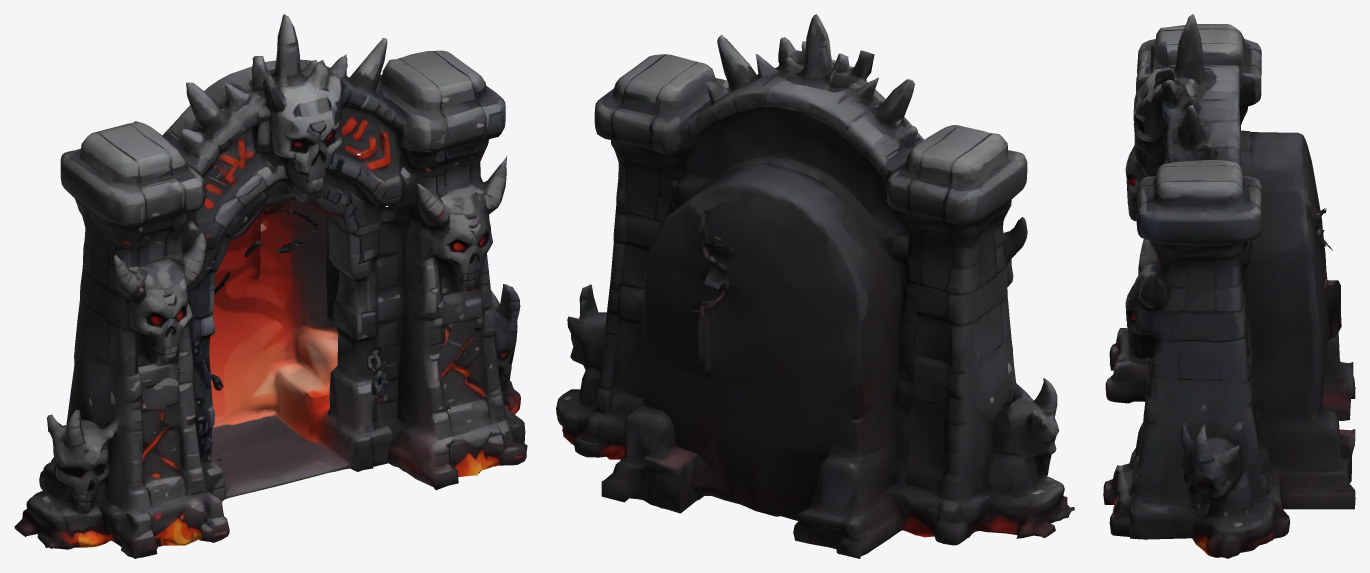
File: dgate.glb
3 views of the same model, side by side, from view 1: azimuth 30°, elevation 25°; view 2: azimuth 150°, elevation 25°; view 3: azimuth 270°, elevation 25° (orthographic). The views are drawn at different scales.
Visible parts, largest first — view 1: tripo_node_a3127b3b; view 2: tripo_node_a3127b3b; view 3: tripo_node_a3127b3b.
Part boxes in pixels (x1,y1,x2,y2): tripo_node_a3127b3b: (14, 14, 527, 558); tripo_node_a3127b3b: (556, 14, 1074, 558); tripo_node_a3127b3b: (1103, 14, 1355, 558).
Bounding box in the file's own units: 99.52 × 88.59 × 46.86.
Materials: 1 (1 with a texture image).
